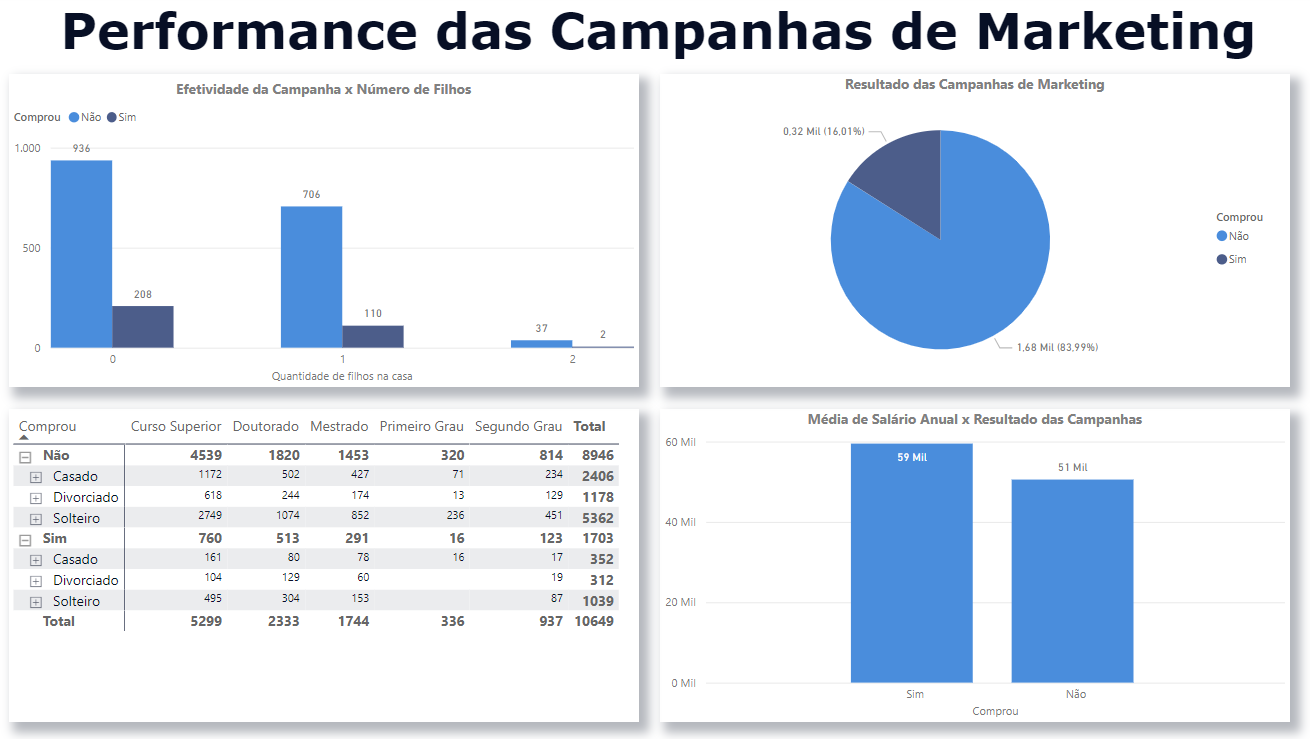

Layout of this report page (visuals, bound fields, positions):
{"tool":"powerbi","page":{"name":"Visão Campanhas","canvas":[1280,720],"ordinal":2},"visuals":[{"type":"pivotTable","fields":{"Rows":["DadosMarketing.Comprou","DadosMarketing.Estado Civil","DadosMarketing.Pais"],"Values":["Sum(DadosMarketing.Numero Visitas WebSite Mes)"],"Columns":["DadosMarketing.Escolaridade"]},"box":[12.1,400.4,607.8,302.7],"z":0},{"type":"textbox","box":[11.5,0,1253.7,90.6],"z":1000},{"type":"columnChart","title":"Média de Salário Anual x Resultado das Campanhas","fields":{"Category":["DadosMarketing.Comprou"],"Y":["Avg(DadosMarketing.Salario Anual)"]},"box":[640.4,400.4,607.8,302.7],"z":2000},{"type":"pieChart","title":"Resultado das Campanhas de Marketing","fields":{"Category":["DadosMarketing.Comprou"],"Y":["CountNonNull(DadosMarketing.ID)"]},"box":[640.4,77.2,607.8,302.7],"z":3000},{"type":"clusteredColumnChart","title":"Efetividade da Campanha x Número de Filhos ","fields":{"Category":["DadosMarketing.Filhos em Casa"],"Series":["DadosMarketing.Comprou"],"Y":["CountNonNull(DadosMarketing.Filhos em Casa)"]},"box":[12.1,77.2,607.8,302.7],"z":4000}]}

Visuals, with their boxes in screenshot pixels (x1, y1, x2, y2), scaled from the page's 1280x720 canvas onto the 1310x739 screenshot:
pivotTable - DadosMarketing.Comprou x DadosMarketing.Estado Civil: [12,411,634,722]
textbox: [12,0,1295,93]
"Média de Salário Anual x Resultado das Campanhas" columnChart: [655,411,1277,722]
"Resultado das Campanhas de Marketing" pieChart: [655,79,1277,390]
"Efetividade da Campanha x Número de Filhos " clusteredColumnChart: [12,79,634,390]
